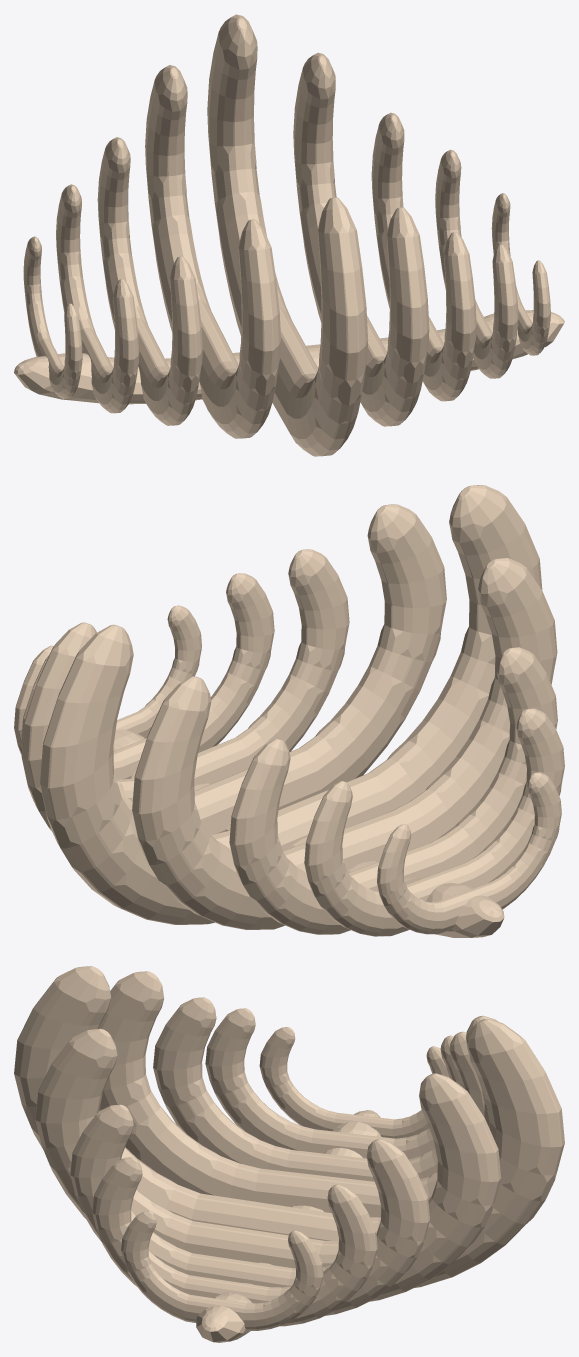
File: bone1.fbx
3 renders of one model, top to bottom at view 1: azimuth 30°, elevation 25°; view 2: azimuth 150°, elevation 25°; view 3: azimuth 270°, elevation 25°, orthographic. The views are drawn at different scales.
Parts seen in each view (by area): view 1: BezierCircle.001, BezierCircle.005, BezierCircle, BezierCircle.006, BezierCircle.002, BezierCircle.007, BezierCircle.003, BezierCircle.008, BezierCircle.009, BezierCircle.004; view 2: BezierCircle.001, BezierCircle.005, BezierCircle, BezierCircle.006, BezierCircle.007, BezierCircle.002, BezierCircle.008, BezierCircle.003, BezierCircle.004, BezierCircle.009; view 3: BezierCircle.001, BezierCircle, BezierCircle.005, BezierCircle.002, BezierCircle.006, BezierCircle.003, BezierCircle.007, BezierCircle.004, BezierCircle.008, BezierCircle.009.
Boxes of the visible parts, bbox=[...] form: BezierCircle.001: bbox=[207, 14, 368, 456]; BezierCircle.005: bbox=[145, 65, 280, 438]; BezierCircle: bbox=[293, 52, 429, 426]; BezierCircle.006: bbox=[97, 137, 202, 425]; BezierCircle.002: bbox=[371, 112, 476, 401]; BezierCircle.007: bbox=[56, 184, 139, 413]; BezierCircle.003: bbox=[435, 149, 518, 378]; BezierCircle.008: bbox=[23, 236, 82, 398]; BezierCircle.009: bbox=[14, 310, 564, 404]; BezierCircle.004: bbox=[491, 193, 550, 355]; BezierCircle.001: bbox=[40, 485, 542, 924]; BezierCircle.005: bbox=[132, 558, 557, 929]; BezierCircle: bbox=[21, 504, 446, 834]; BezierCircle.006: bbox=[229, 647, 557, 934]; BezierCircle.007: bbox=[304, 708, 564, 936]; BezierCircle.002: bbox=[21, 549, 349, 800]; BezierCircle.008: bbox=[377, 772, 561, 934]; BezierCircle.003: bbox=[14, 573, 274, 779]; BezierCircle.004: bbox=[115, 605, 201, 738]; BezierCircle.009: bbox=[113, 729, 504, 937]; BezierCircle.001: bbox=[14, 966, 564, 1287]; BezierCircle: bbox=[35, 1028, 501, 1301]; BezierCircle.005: bbox=[99, 971, 498, 1217]; BezierCircle.002: bbox=[70, 1104, 429, 1315]; BezierCircle.006: bbox=[153, 997, 484, 1181]; BezierCircle.003: bbox=[92, 1157, 377, 1326]; BezierCircle.007: bbox=[205, 1008, 461, 1159]; BezierCircle.004: bbox=[121, 1211, 323, 1330]; BezierCircle.008: bbox=[259, 1027, 449, 1138]; BezierCircle.009: bbox=[196, 1110, 381, 1342].
Size of the model in its own units: 430 by 268 by 462.
